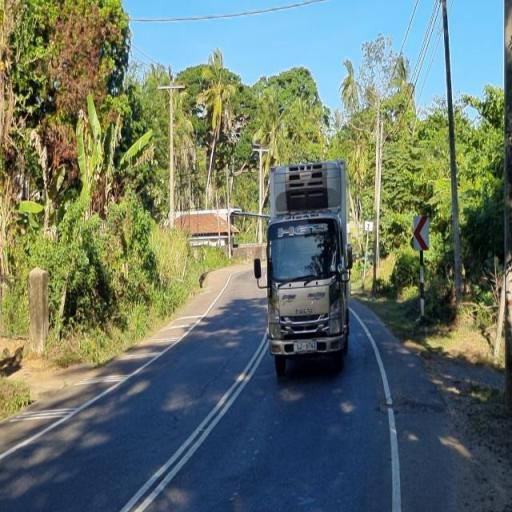double_white_line: (115, 336, 269, 510)
